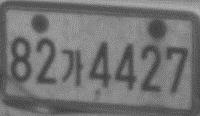2: (140, 43, 163, 93), (36, 37, 57, 85)
4: (114, 42, 139, 92), (87, 41, 112, 88)
7: (165, 45, 187, 95)
8: (11, 37, 31, 80)
가: (60, 48, 85, 86)
